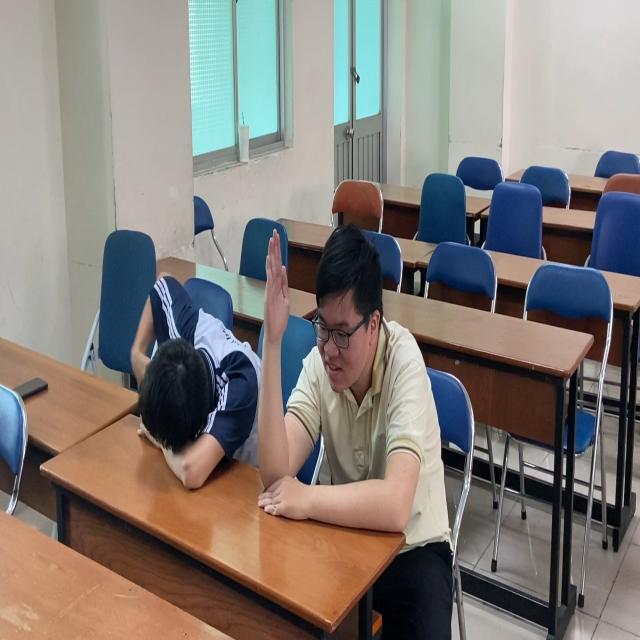raise_hand: (262, 231, 429, 527)
sleep: (132, 274, 259, 509)
